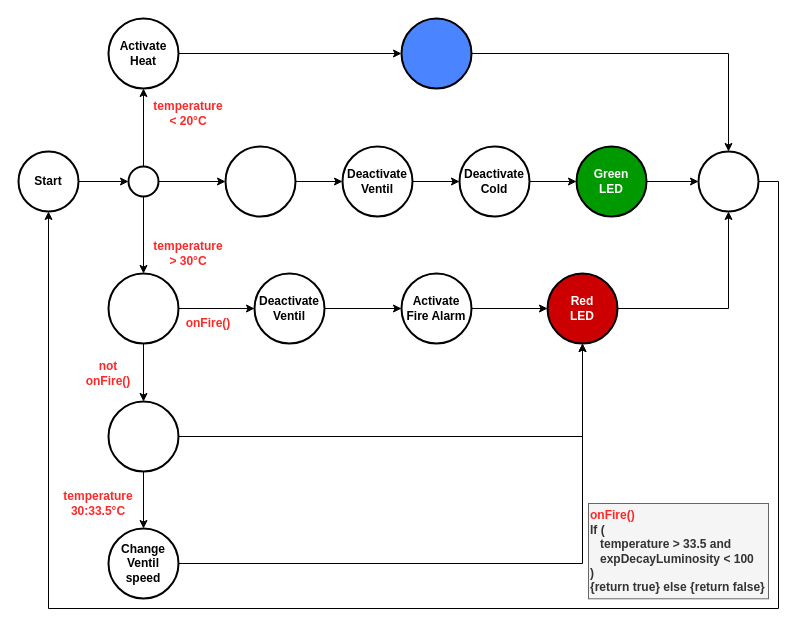
The diagram is 804 pixels wide and 634 high, and some of its shapes have lost their labels. Here are the shapes that lost their labels. From the top down, the centre of each, then its label:
At (x=436, y=53): "Blue LED".
At (x=260, y=181): "Deactivate Heat".
At (x=728, y=181): "End".
At (x=143, y=308): "Activate Cold".
At (x=143, y=436): "Activate Ventil".
